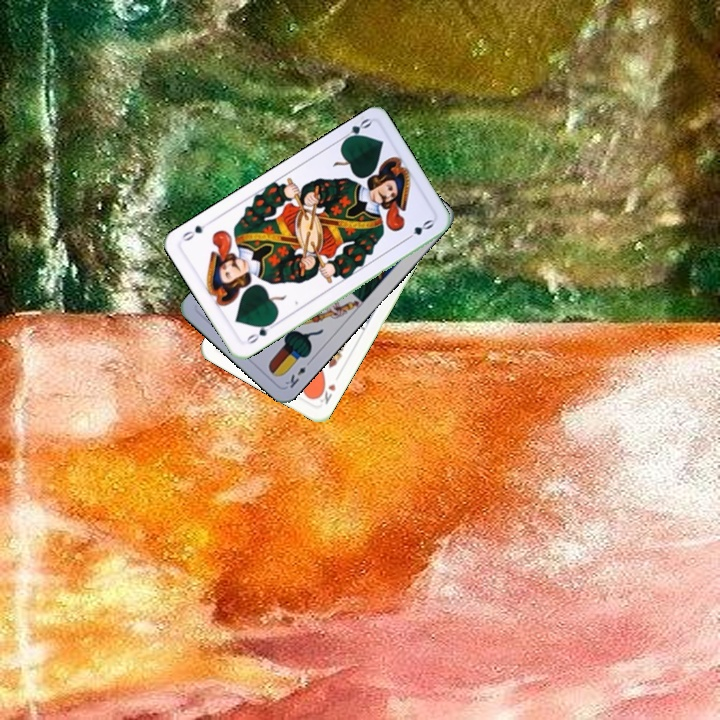EK: (281, 356, 314, 391)
GO: (336, 114, 374, 146), (241, 318, 278, 346)
HK: (313, 379, 338, 407)
